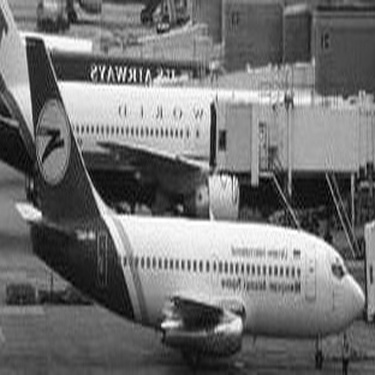airplane: (8, 20, 367, 364), (1, 5, 373, 215), (1, 5, 246, 98)
